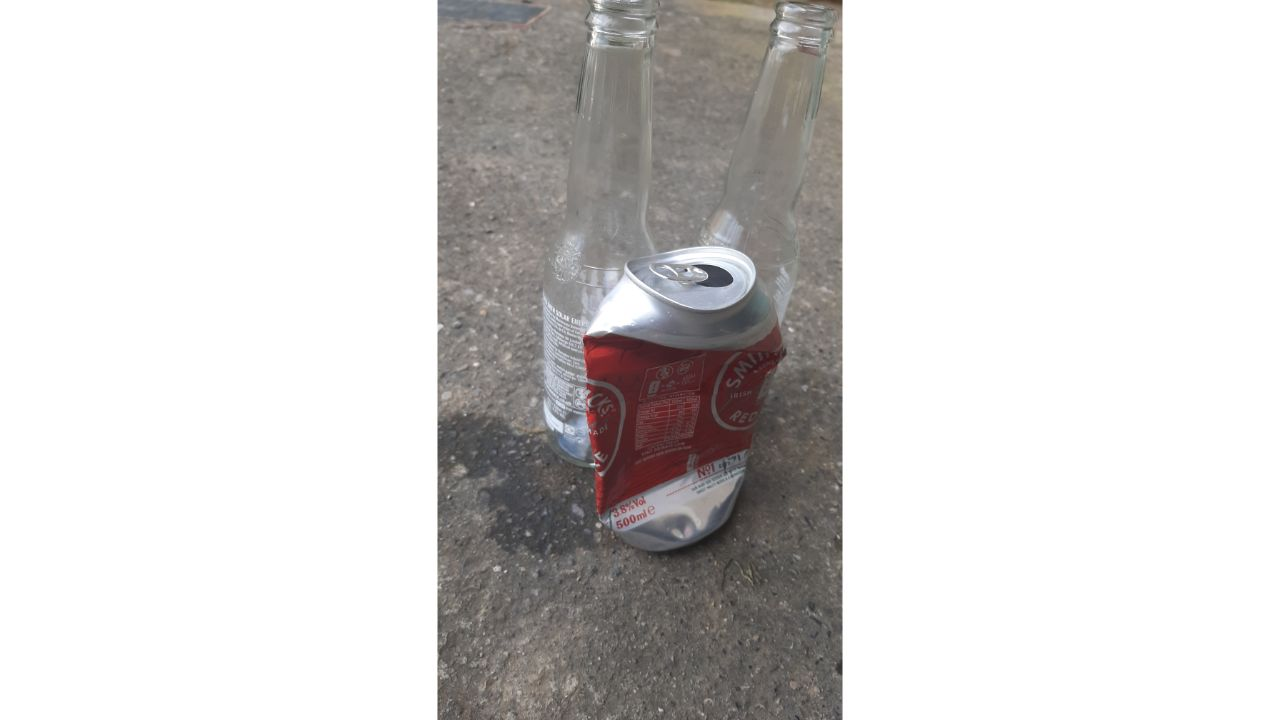Can: (575, 237, 796, 563)
